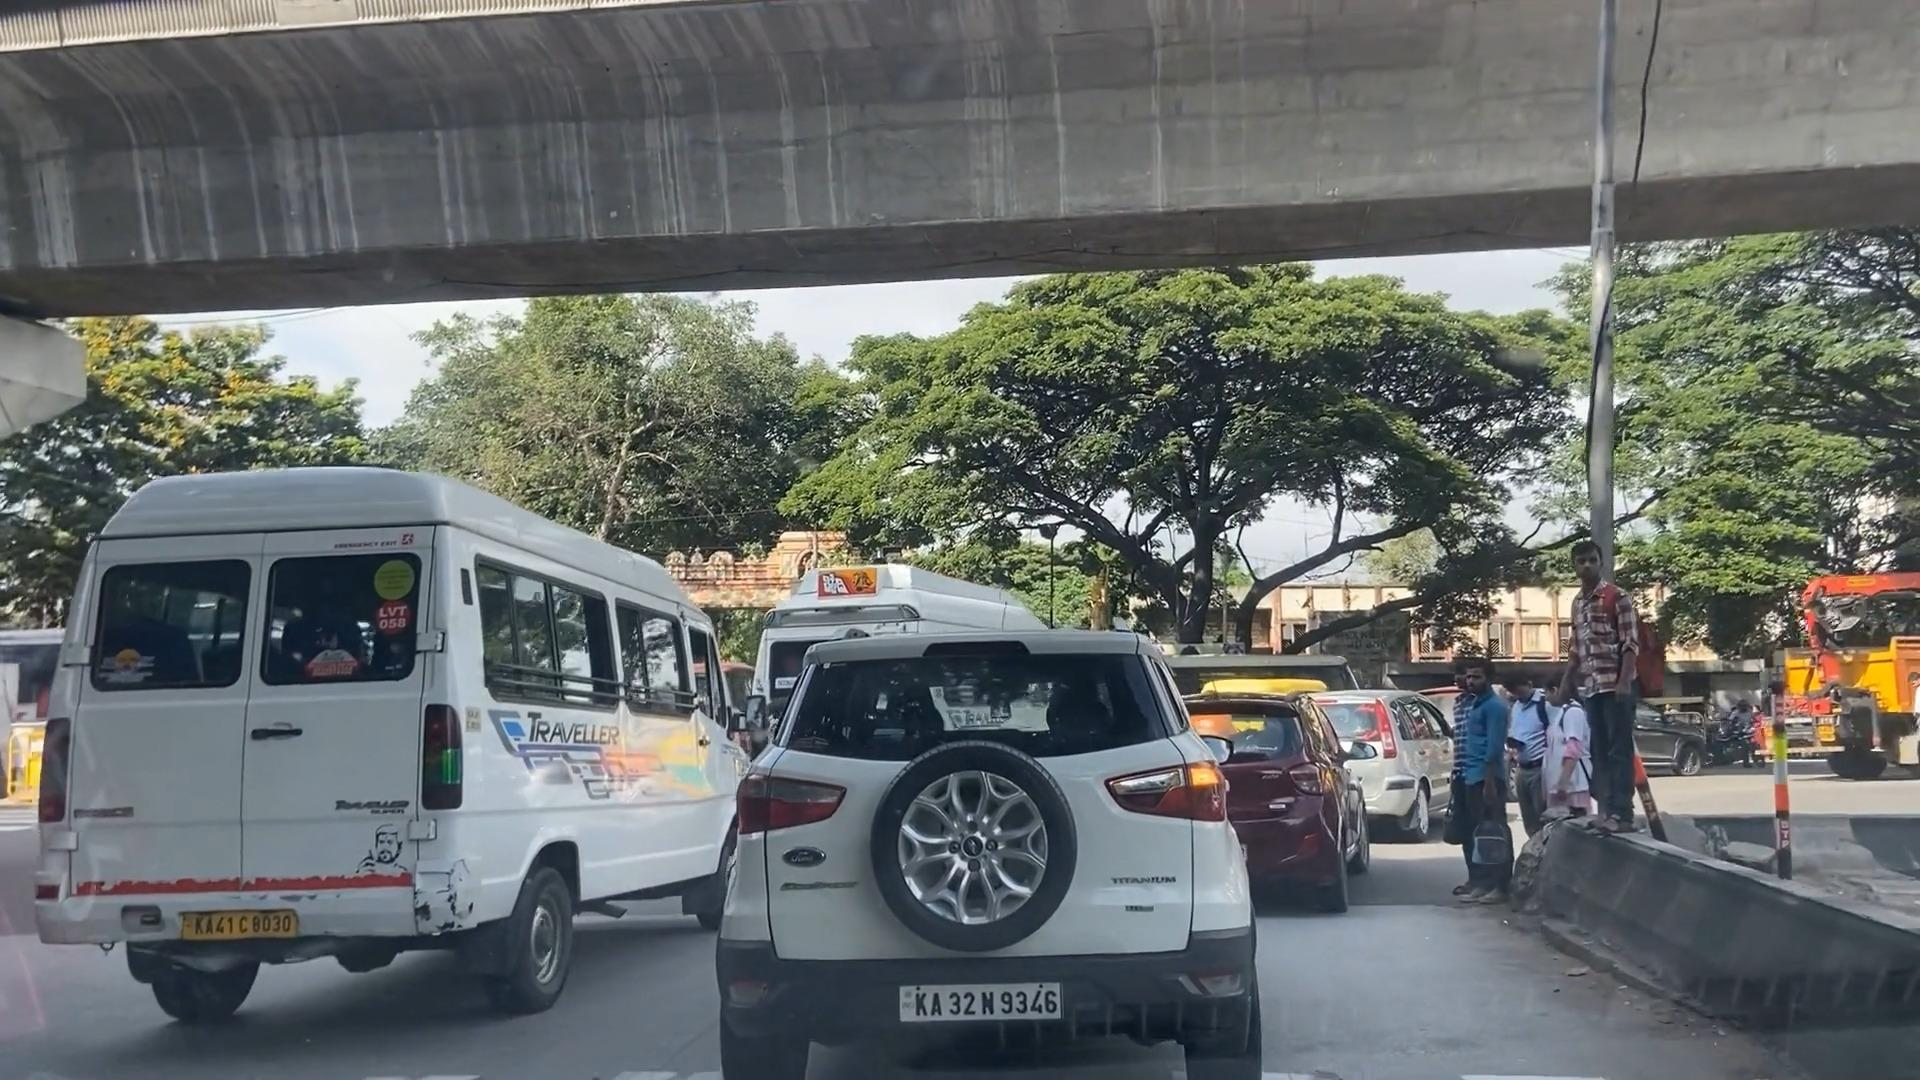HMV: (44, 496, 741, 1025)
LMV: (705, 588, 1253, 1080)
